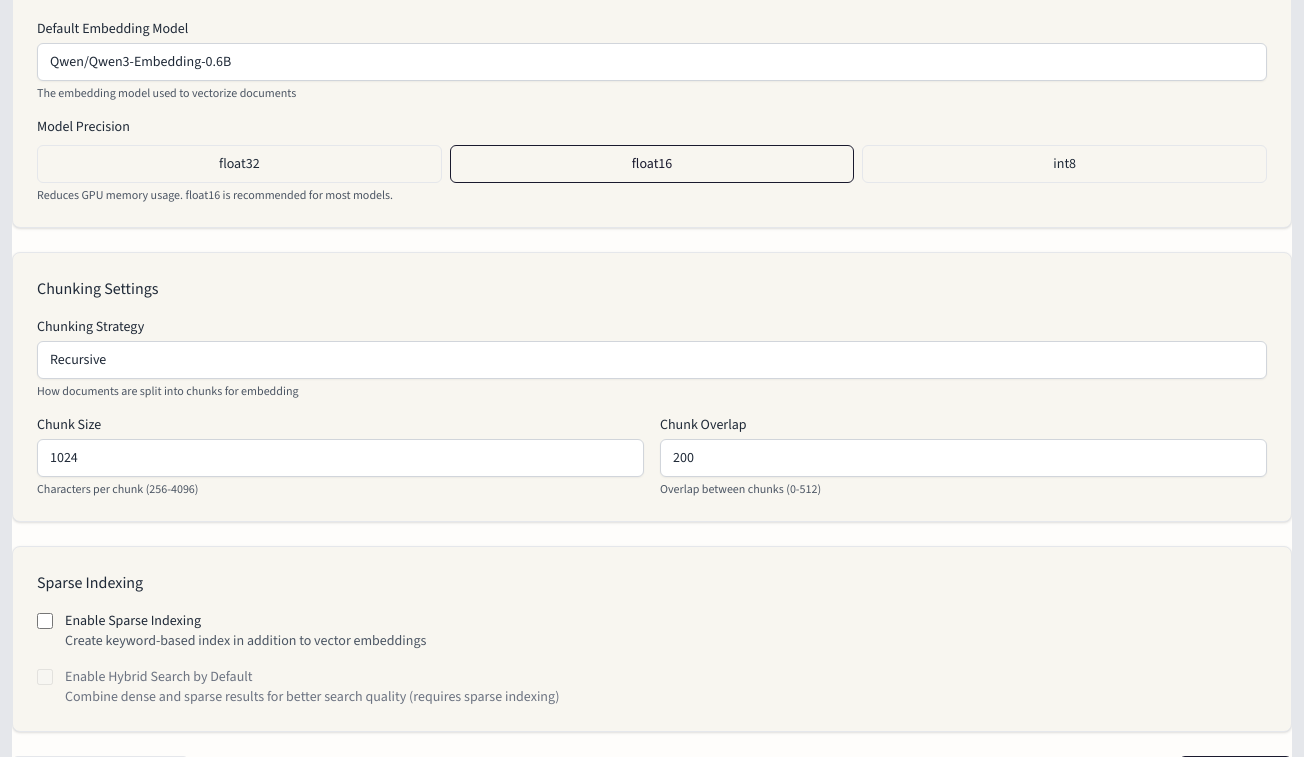
it: CollectionDefaultsSettings › form interactions › enables sparse type selection when sparse indexing is enabled
(page scrolled)
// First checkbox is sparse indexing, second is hybrid
Step 1. Click the checkbox next to "Enable Sparse Indexing" → (45, 621), box [37,613,53,629]
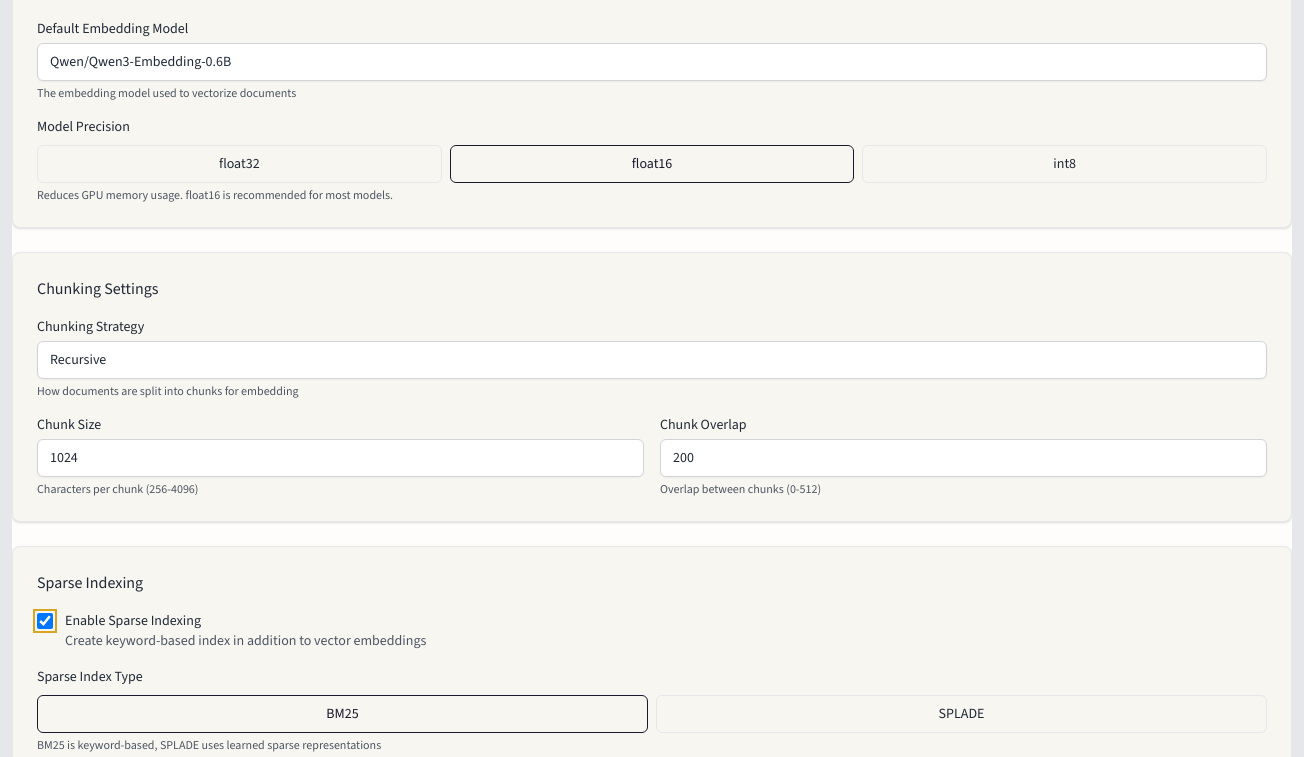
expect the button "BM25" is shown: met, box [37,695,648,733]
expect the button "SPLADE" is shown: met, box [656,695,1267,733]
